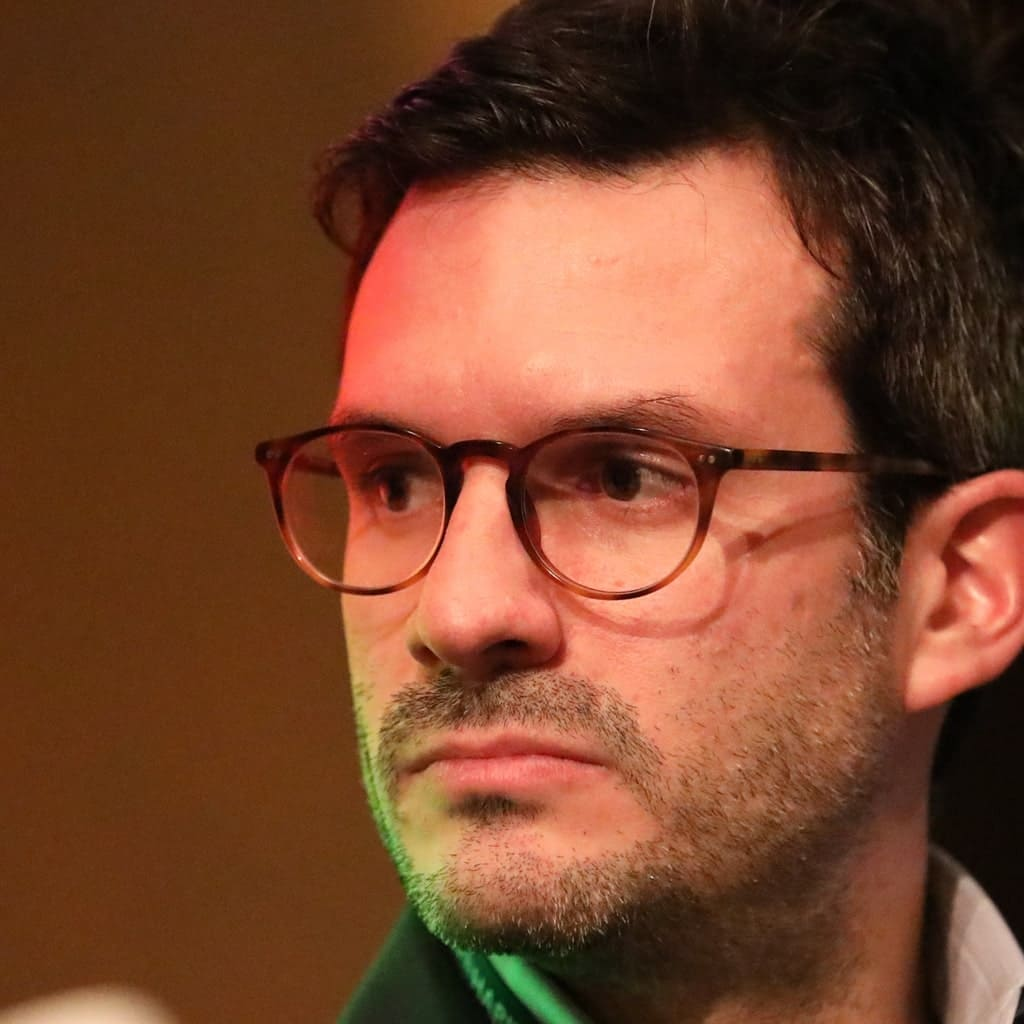without_mask: (341, 224, 780, 881)
